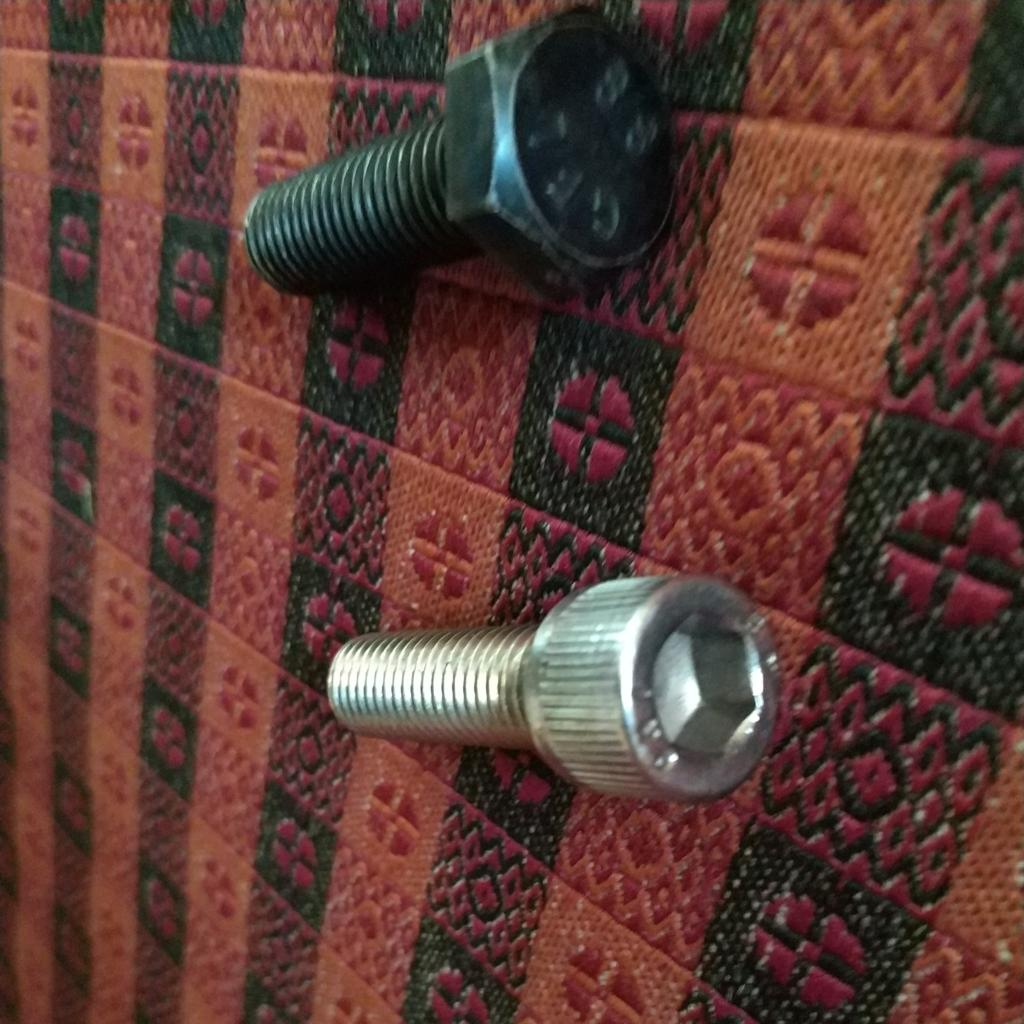screwtype1silver: (314, 556, 783, 808)
screwtype2black: (230, 17, 691, 301)
